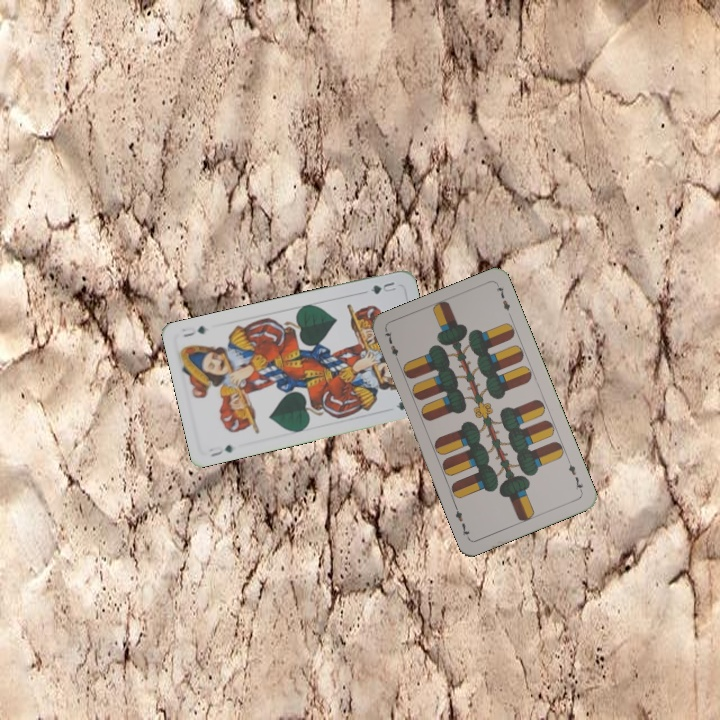E7: (380, 327, 403, 366), (564, 456, 586, 495)
GU: (366, 278, 399, 297), (206, 440, 235, 459)
